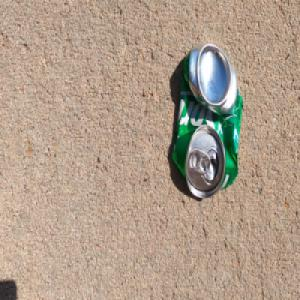SodaCan: (171, 41, 244, 200)
